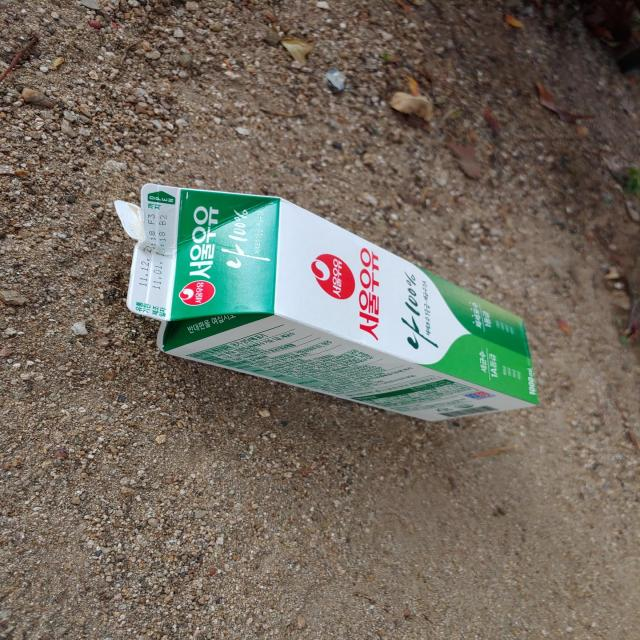paperpack: (114, 183, 539, 421)
